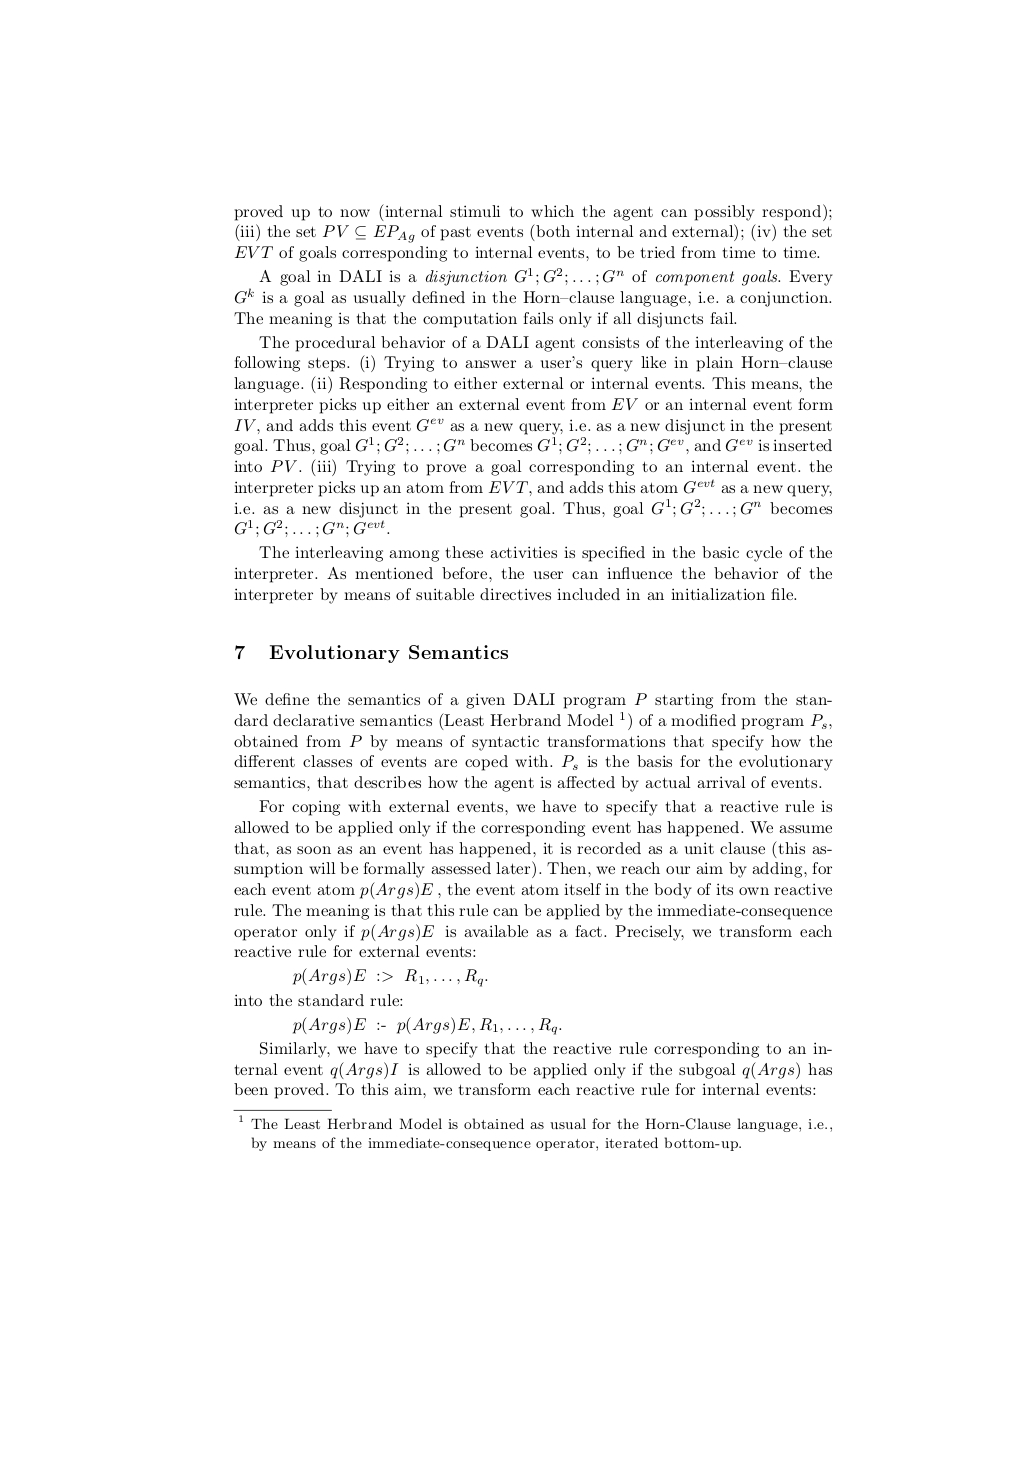figure: (233, 1108, 331, 1111)
formula: (292, 1016, 561, 1035), (292, 967, 487, 987), (235, 520, 389, 537)
